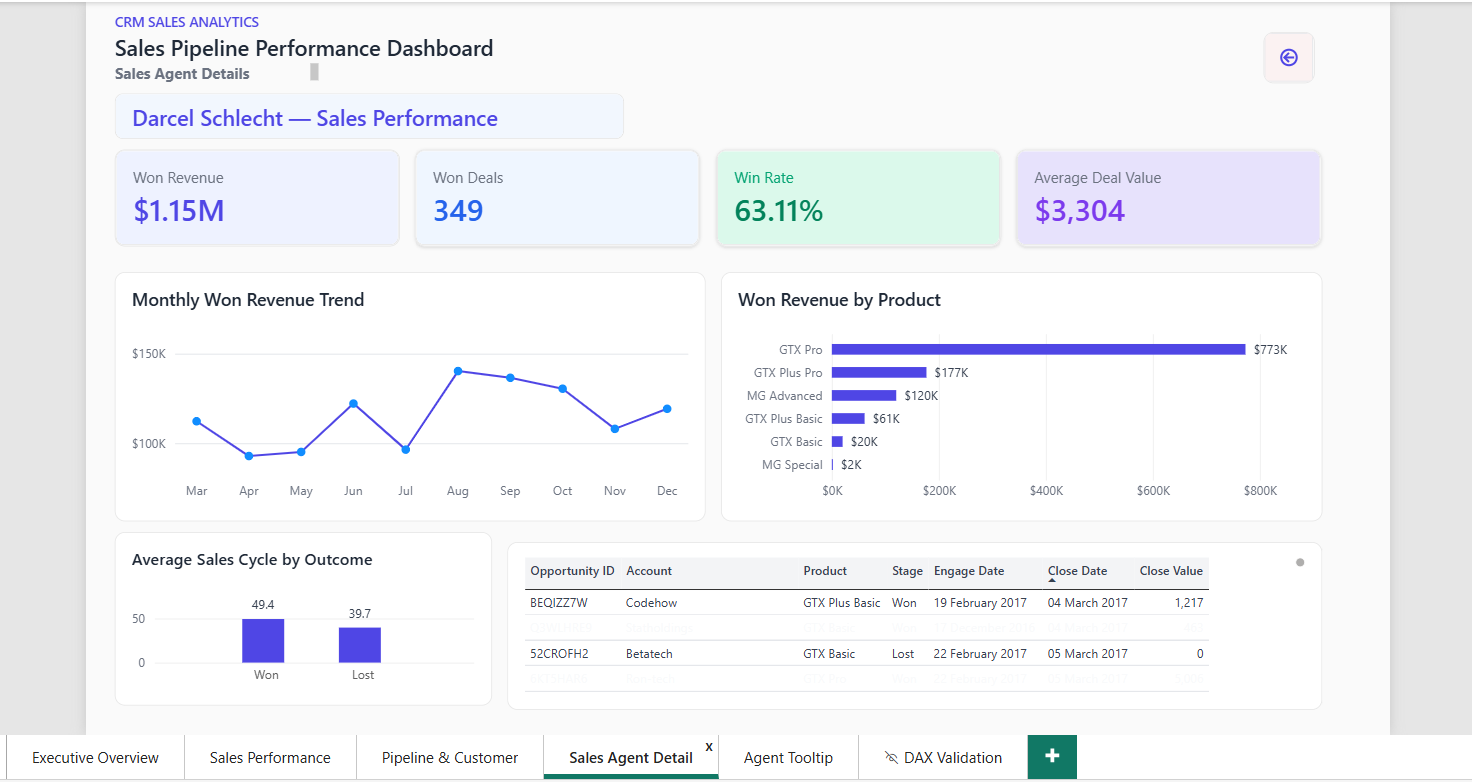

Layout of this report page (visuals, bound fields, positions):
{"tool":"powerbi","page":{"name":"Sales Agent Detail","canvas":[1280,720],"ordinal":4},"visuals":[{"type":"actionButton","box":[1156,30,50,50],"z":2000},{"type":"cardVisual","fields":{"Data":["_Measures.Selected Sales Agent"]},"box":[28,90,500,45],"z":3000},{"type":"cardVisual","title":"Won Revenue","fields":{"Data":["_Measures.Won Revenue"]},"box":[28,145,280,95],"z":4000},{"type":"cardVisual","title":"Won Revenue","fields":{"Data":["_Measures.Won Opportunities"]},"box":[323,145,280,95],"z":5000},{"type":"cardVisual","title":"Won Revenue","fields":{"Data":["_Measures.Win Rate %"]},"box":[618,145,280,95],"z":6000},{"type":"cardVisual","title":"Won Revenue","fields":{"Data":["_Measures.Average Won Deal Value"]},"box":[913,145,300,95],"z":7000},{"type":"lineChart","title":"Monthly Won Revenue Trend","fields":{"Category":["DateTable.Date Hierarchy.Year","DateTable.Date Hierarchy.Quarter","DateTable.Date Hierarchy.Month"],"Y":["_Measures.Won Revenue"]},"box":[28,265,580,245],"z":8000},{"type":"clusteredBarChart","title":"Won Revenue by Product","fields":{"Category":["products.product"],"Y":["_Measures.Won Revenue"]},"box":[623,265,590,245],"z":9000},{"type":"clusteredColumnChart","title":"Average Sales Cycle by Outcome","fields":{"Category":["sales_pipeline.deal_stage"],"Y":["_Measures.Average Sales Cycle"]},"box":[28,520,370,170],"z":10000},{"type":"tableEx","fields":{"Values":["sales_pipeline.opportunity_id","sales_pipeline.account","sales_pipeline.product","sales_pipeline.deal_stage","sales_pipeline.engage_date","sales_pipeline.close_date","Sum(sales_pipeline.close_value)"]},"box":[413,530,800,165],"z":11000},{"type":"textbox","box":[28,10,200,18],"z":11001},{"type":"textbox","box":[28,29,420,30],"z":11002},{"type":"textbox","box":[28,60,200,18],"z":11003}]}

Visuals, with their boxes on the page's 1280x720 design canvas (x1, y1, x2, y2). These are canvas units, not pixel positions in the 1472x782 screenshot, which may show the page scaled, cropped or inside an application window:
actionButton: rect(1156, 30, 1206, 80)
cardVisual - _Measures.Selected Sales Agent: rect(28, 90, 528, 135)
"Won Revenue" cardVisual: rect(28, 145, 308, 240)
"Won Revenue" cardVisual: rect(323, 145, 603, 240)
"Won Revenue" cardVisual: rect(618, 145, 898, 240)
"Won Revenue" cardVisual: rect(913, 145, 1213, 240)
"Monthly Won Revenue Trend" lineChart: rect(28, 265, 608, 510)
"Won Revenue by Product" clusteredBarChart: rect(623, 265, 1213, 510)
"Average Sales Cycle by Outcome" clusteredColumnChart: rect(28, 520, 398, 690)
tableEx - sales_pipeline.opportunity_id x sales_pipeline.account: rect(413, 530, 1213, 695)
textbox: rect(28, 10, 228, 28)
textbox: rect(28, 29, 448, 59)
textbox: rect(28, 60, 228, 78)
